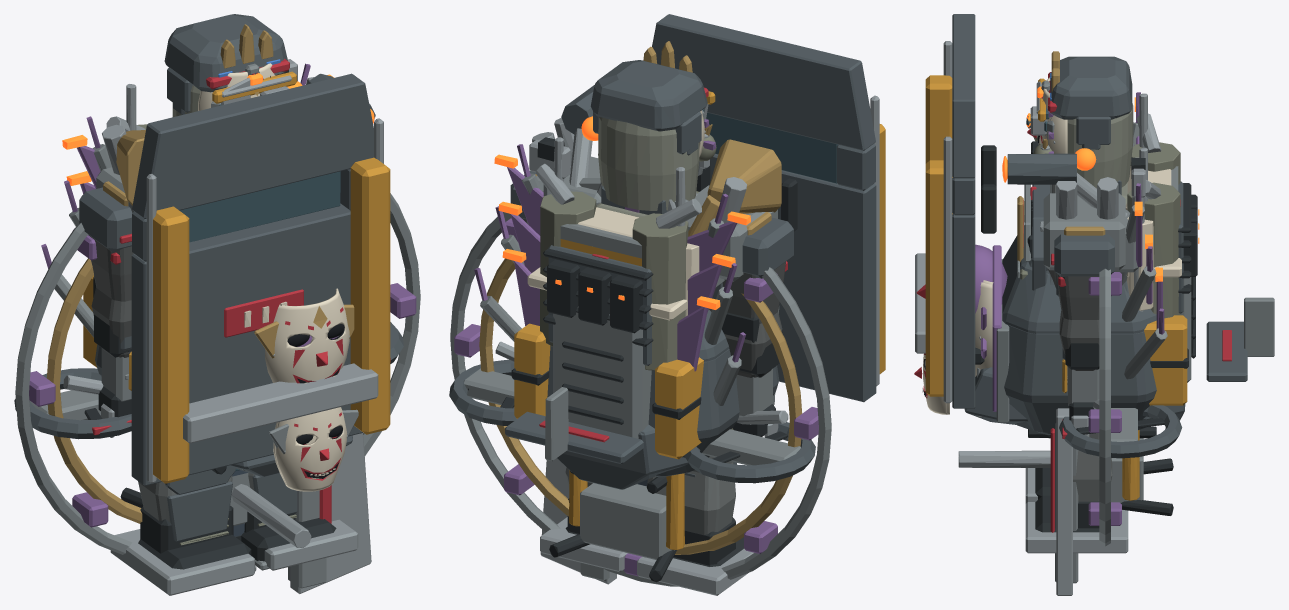
The model's file is tactical.glb.
3 views of the same model, side by side, from view 1: azimuth 30°, elevation 25°; view 2: azimuth 150°, elevation 25°; view 3: azimuth 270°, elevation 25° (orthographic). The views are drawn at different scales.
Visible parts, largest first — view 1: breacher__riot-cap, breacher__breach-shield-bumper, moderator__moderator-ring.001, breacher__breach-ram-bar, boss__ballistic-helmet, breacher__ballistic-sight, moderator__mask-shell, ragequit__cleaver-edge, carrier__mask-shell, moderator__moderator-ring, turret__sentry-outrigger, breacher__shield-edge (+35 smaller); view 2: breacher__riot-cap, moderator__moderator-ring.001, lagspike__relay-backpack, smoker__smoke-canister, boss__ballistic-helmet, sniper__hood-crown, moderator__moderator-ring, bomber__explosive-pack, rubberbander__glitch-fin, carrier__carried-sentry, sapper__packed-charge, packleader__command-horn (+49 smaller); view 3: breacher__riot-cap, lagspike__signal-housing, breacher__breach-shield-bumper, boss__ballistic-helmet, bomber__demolition-housing, smoker__smoke-canister, moderator__moderator-ring.001, breacher__shield-edge, ragequit__cleaver-edge, bomber__explosive-pack, ragequit__rage-pauldron.001, sniper__hood-crown (+43 smaller).
Part boxes in pixels (x1,y1,x2,y2): breacher__riot-cap: [131, 73, 373, 485]; breacher__breach-shield-bumper: [153, 157, 390, 483]; moderator__moderator-ring.001: [15, 193, 420, 554]; breacher__breach-ram-bar: [183, 363, 378, 443]; boss__ballistic-helmet: [164, 14, 287, 112]; breacher__ballistic-sight: [180, 171, 340, 242]; moderator__mask-shell: [265, 288, 349, 382]; ragequit__cleaver-edge: [290, 433, 371, 593]; carrier__mask-shell: [275, 407, 347, 491]; moderator__moderator-ring: [47, 258, 142, 523]; turret__sentry-outrigger: [110, 529, 254, 595]; breacher__shield-edge: [146, 118, 383, 483]; breacher__riot-cap: [652, 14, 876, 402]; moderator__moderator-ring.001: [450, 178, 831, 586]; lagspike__relay-backpack: [553, 306, 651, 438]; smoker__smoke-canister: [540, 191, 688, 370]; boss__ballistic-helmet: [590, 60, 707, 154]; sniper__hood-crown: [598, 117, 699, 210]; moderator__moderator-ring: [479, 258, 802, 554]; bomber__explosive-pack: [514, 323, 703, 459]; rubberbander__glitch-fin: [507, 167, 737, 371]; carrier__carried-sentry: [580, 483, 674, 559]; sapper__packed-charge: [537, 137, 642, 333]; packleader__command-horn: [688, 139, 781, 236]; breacher__riot-cap: [952, 14, 975, 408]; lagspike__signal-housing: [1002, 258, 1156, 432]; breacher__breach-shield-bumper: [925, 75, 952, 396]; boss__ballistic-helmet: [1050, 56, 1132, 144]; bomber__demolition-housing: [1002, 226, 1156, 434]; smoker__smoke-canister: [1127, 142, 1180, 318]; moderator__moderator-ring.001: [1099, 268, 1110, 546]; breacher__shield-edge: [943, 41, 952, 403]; ragequit__cleaver-edge: [1056, 408, 1072, 595]; bomber__explosive-pack: [1144, 315, 1187, 405]; ragequit__rage-pauldron.001: [1043, 193, 1125, 270]; sniper__hood-crown: [1067, 103, 1133, 188].
Size of what is drawn, in the model's own units: 1.57 by 2.16 by 1.4.
